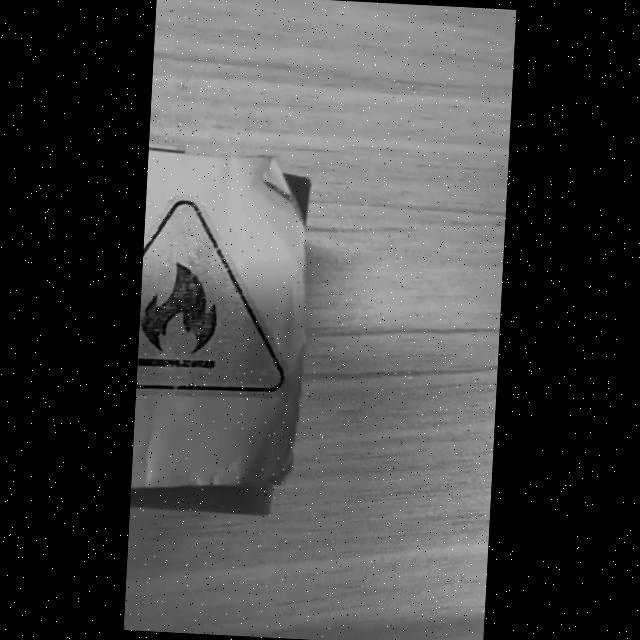Fire: (136, 201, 282, 391)
